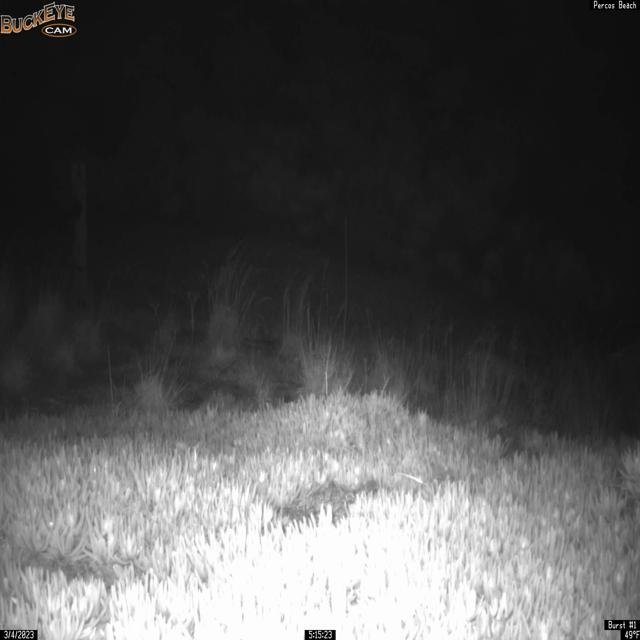bobcat: (466, 336, 538, 410)
